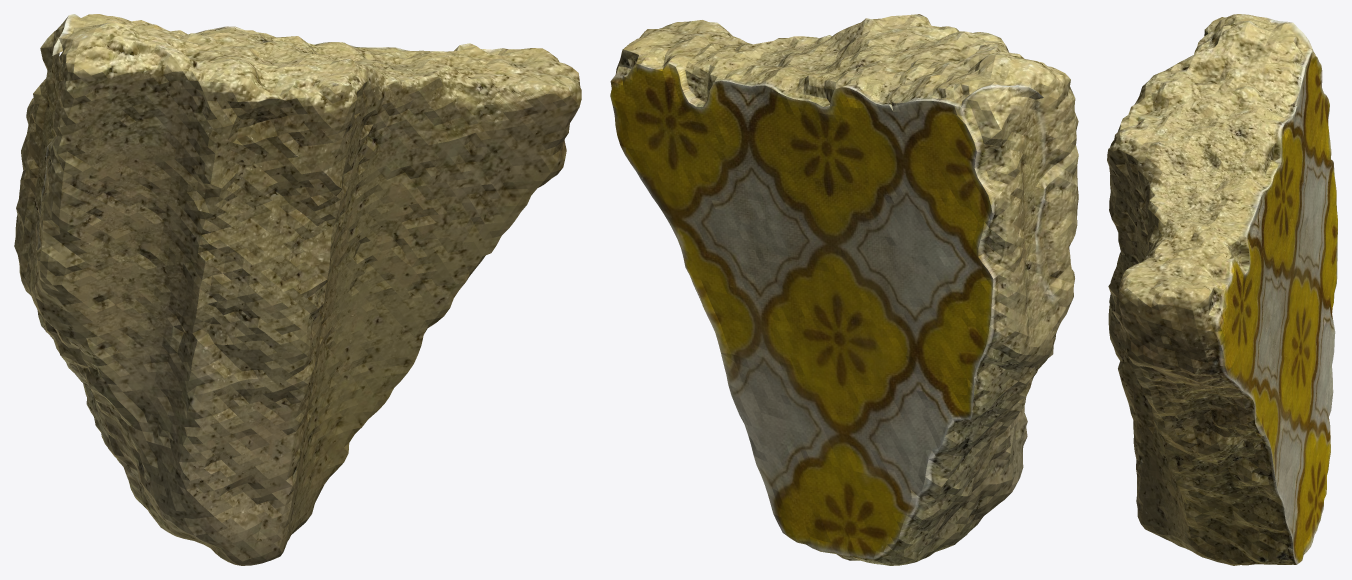
3 views of the same model, side by side, from view 1: azimuth 30°, elevation 25°; view 2: azimuth 150°, elevation 25°; view 3: azimuth 270°, elevation 25° (orthographic). The views are drawn at different scales.
Bounding box in the file's own units: 0.4769 × 0.4976 × 0.2184.
Materials: 1 (1 with a texture image).
